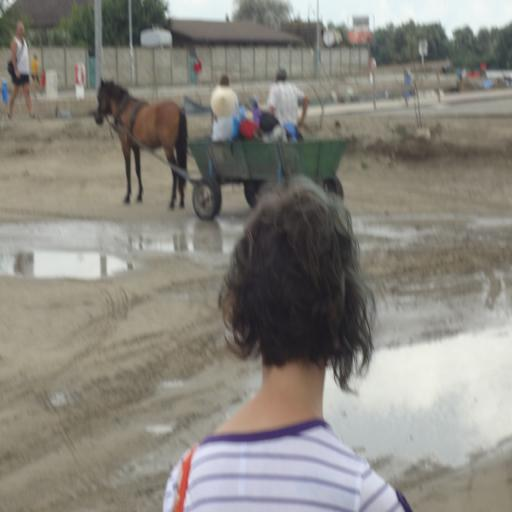horse: (93, 74, 190, 211)
